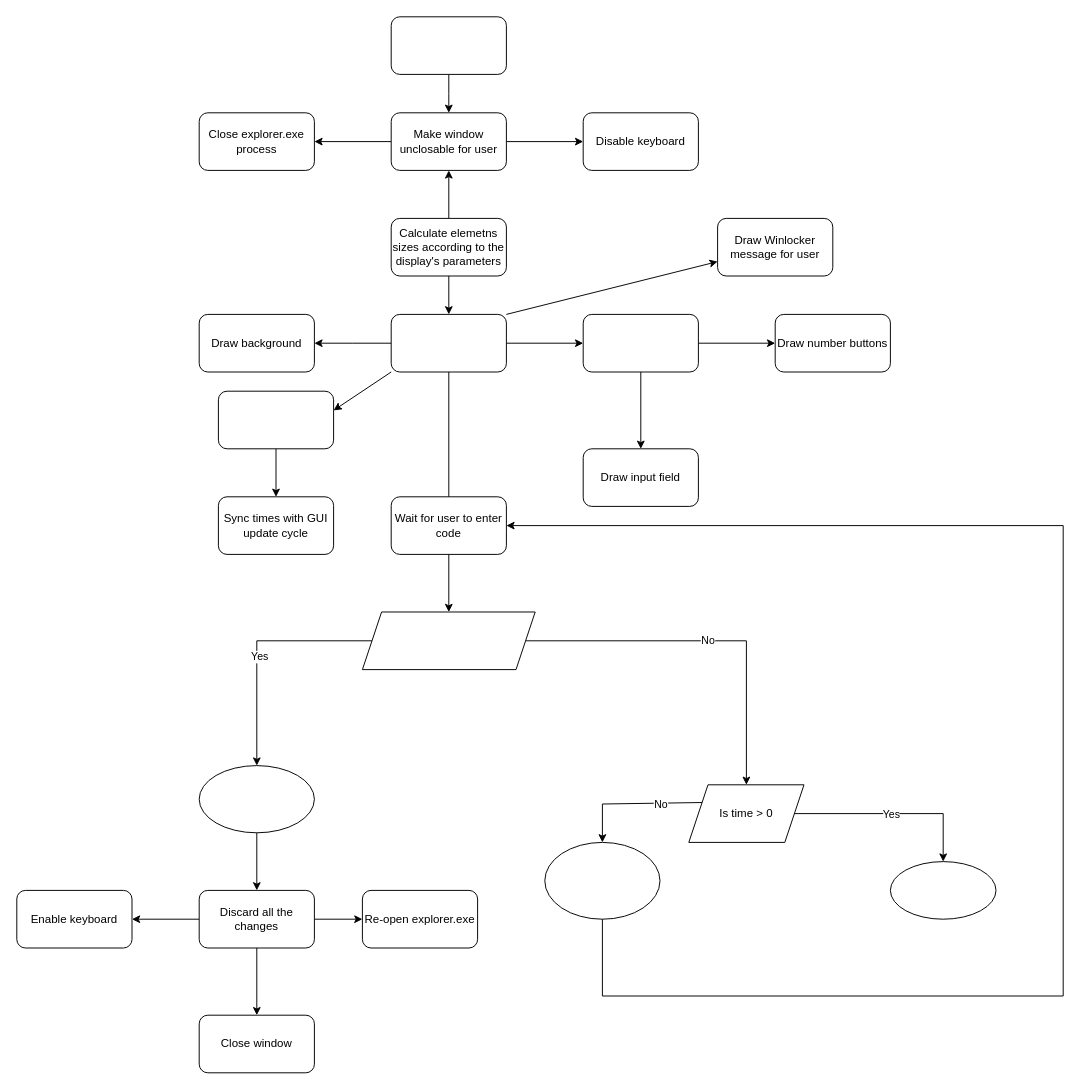
The diagram is 1088 pixels wide and 1090 high, and some of its shapes have lost their labels. Here are the shapes that lost their labels. From the top down, the centre of each, then its label:
the point at 448,45: User starts program
the point at 448,342: Draw GUI
the point at 640,342: Draw code input form
the point at 275,419: Draw timer
the point at 448,640: User prompted correct code?
the point at 256,799: End program
the point at 602,880: Go back to waiting for user input
the point at 942,890: Restart computer
